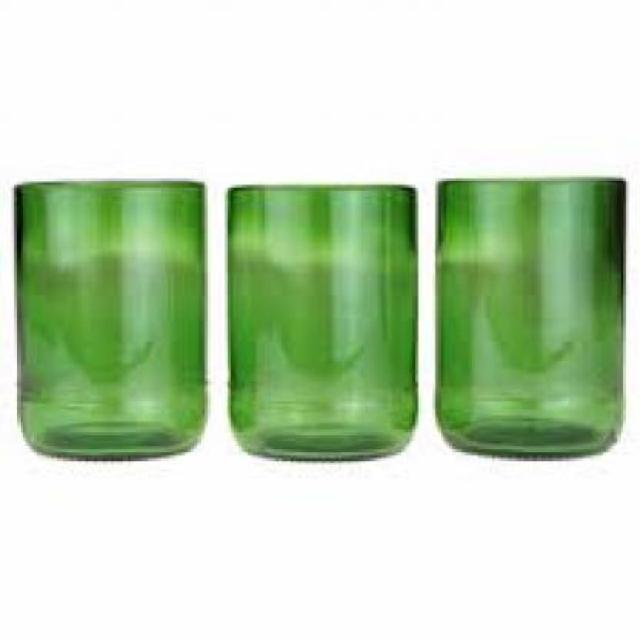kaca: (13, 177, 205, 458), (224, 182, 418, 458), (432, 174, 620, 455)
